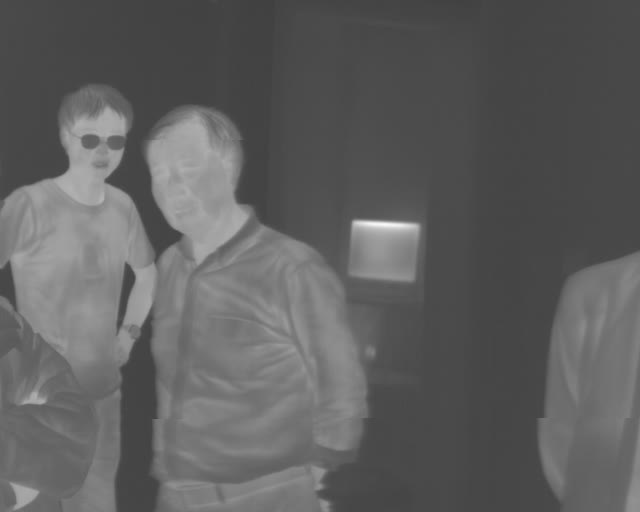face: (143, 104, 245, 236), (57, 82, 133, 181)
